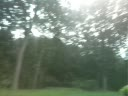window: (0, 12, 41, 96), (51, 77, 76, 96), (48, 40, 72, 58), (97, 82, 117, 96), (96, 58, 105, 67)
